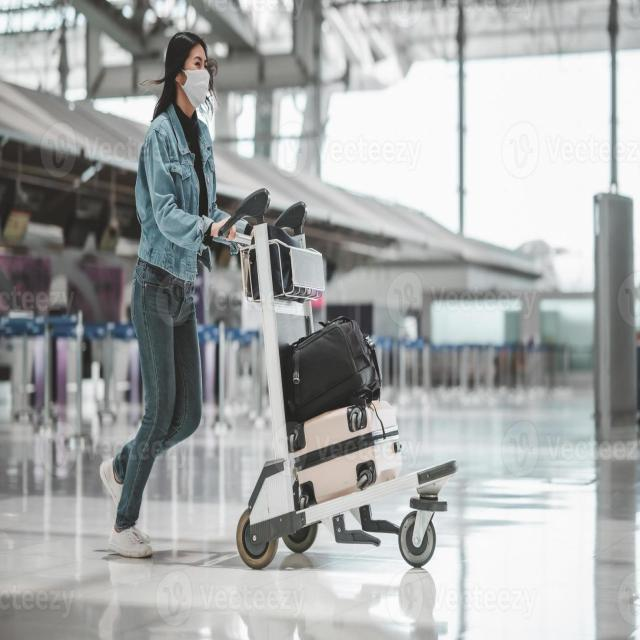Person: (100, 32, 252, 548)
